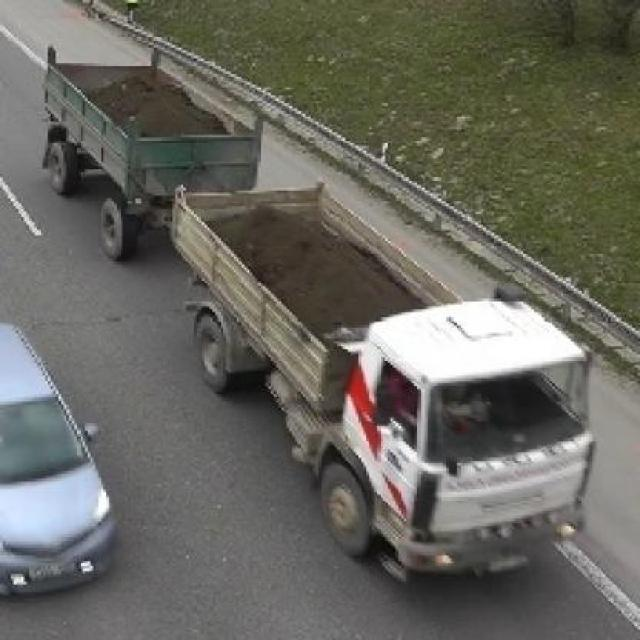truck: (41, 38, 596, 596)
